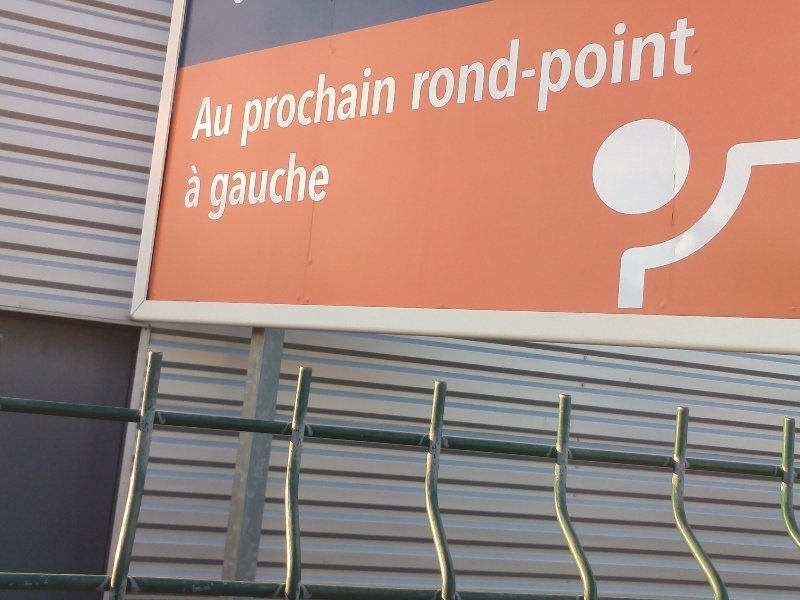text: (417, 9, 432, 134), (433, 9, 448, 134), (449, 9, 464, 134), (465, 9, 480, 134), (481, 9, 496, 134), (497, 9, 512, 134), (513, 9, 528, 134), (529, 9, 544, 134), (545, 9, 560, 134), (561, 9, 576, 134), (577, 9, 592, 134), (593, 9, 608, 134), (609, 9, 624, 134), (625, 9, 640, 134), (641, 9, 656, 134), (657, 9, 672, 134), (673, 9, 688, 134), (257, 57, 272, 148), (273, 57, 288, 148), (289, 57, 304, 148), (305, 57, 320, 148), (321, 57, 336, 148), (337, 57, 352, 148), (353, 57, 368, 148), (369, 57, 384, 148), (385, 57, 399, 148), (225, 149, 240, 221), (241, 149, 256, 221), (257, 149, 272, 221), (273, 149, 288, 221), (289, 149, 304, 221), (305, 149, 320, 221), (689, 9, 697, 134), (321, 149, 334, 221), (247, 57, 256, 148), (213, 149, 224, 221), (209, 96, 224, 140), (193, 165, 204, 209), (225, 96, 234, 140), (203, 96, 208, 140), (187, 165, 192, 209)
